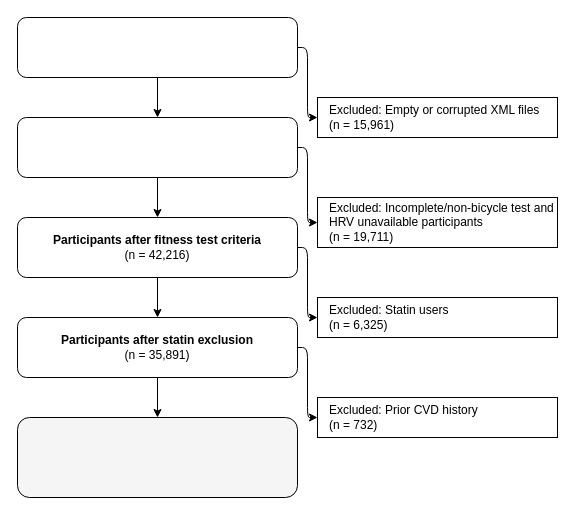
Image size: 575x515. Some labels were removed from this diagram. The centre of each missing label's shape, as x and y in pixels:
Final study population (n = 35,159) with incident CVD cases (n = 4,440): the point at 157,457
Initial participants with ECG XML files (n = 77,888): the point at 157,47
Participants after XML file check (n = 61,927): the point at 157,147
